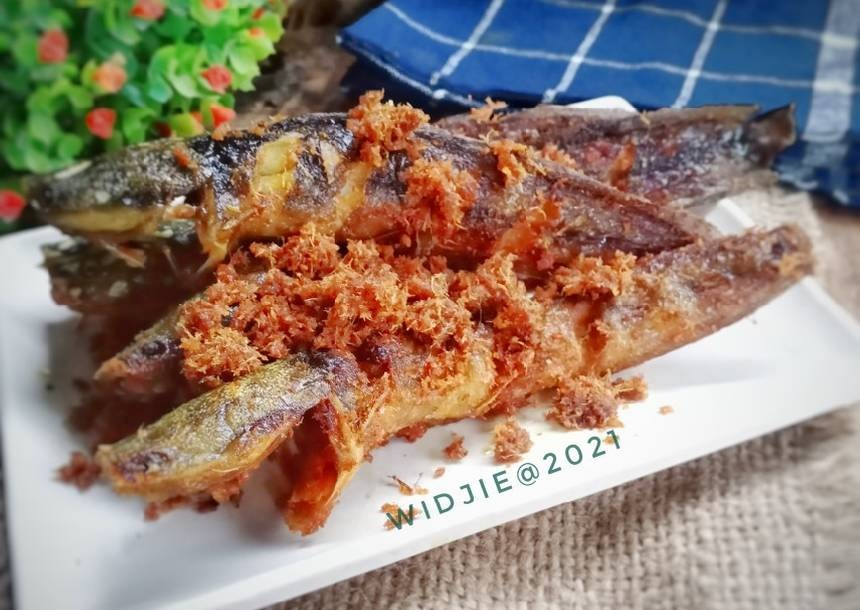pecel_lele: (74, 319, 699, 521)
